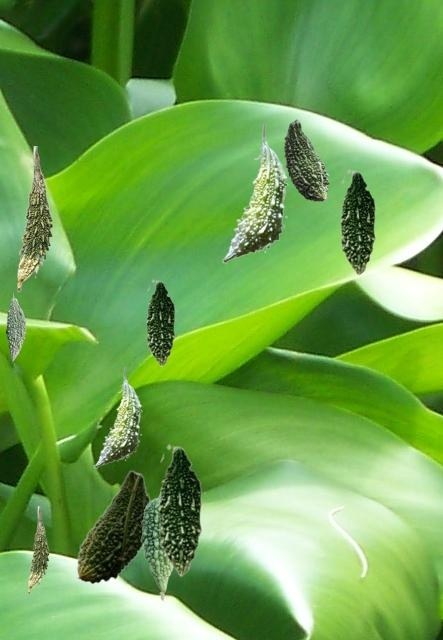ampalaya: (222, 124, 287, 262), (76, 470, 150, 583), (158, 444, 204, 576), (17, 146, 52, 291), (94, 367, 141, 467), (340, 169, 377, 275), (284, 119, 328, 200), (140, 493, 173, 600), (146, 279, 176, 366), (28, 506, 48, 593), (6, 292, 25, 360)
